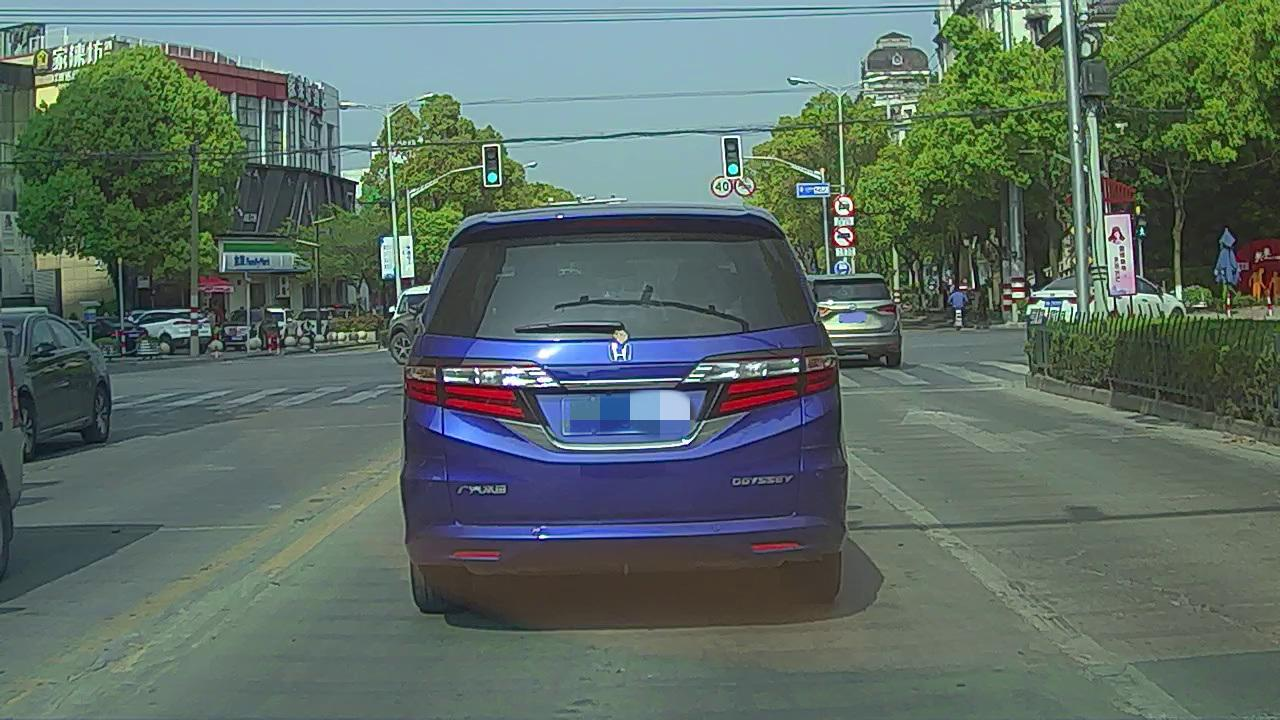traffic_light: (483, 143, 500, 185), (723, 136, 740, 176)
